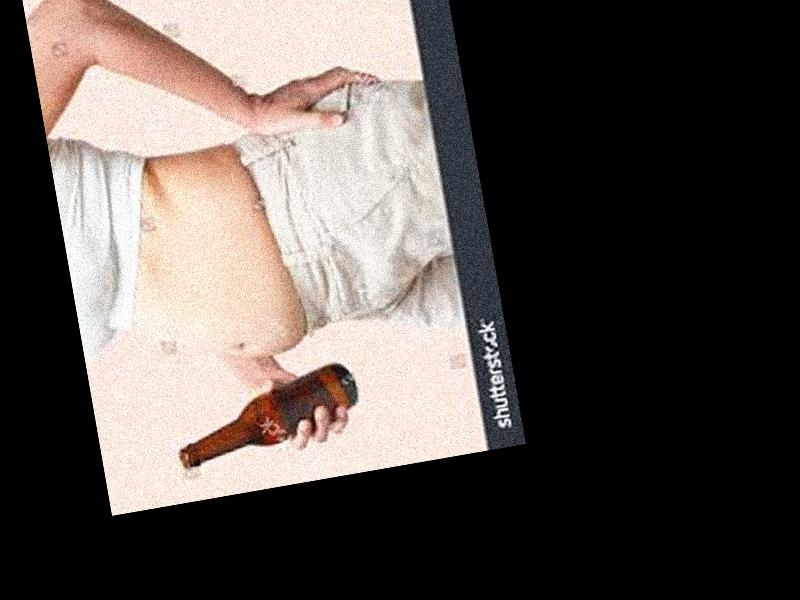Beer: (170, 356, 367, 470)
